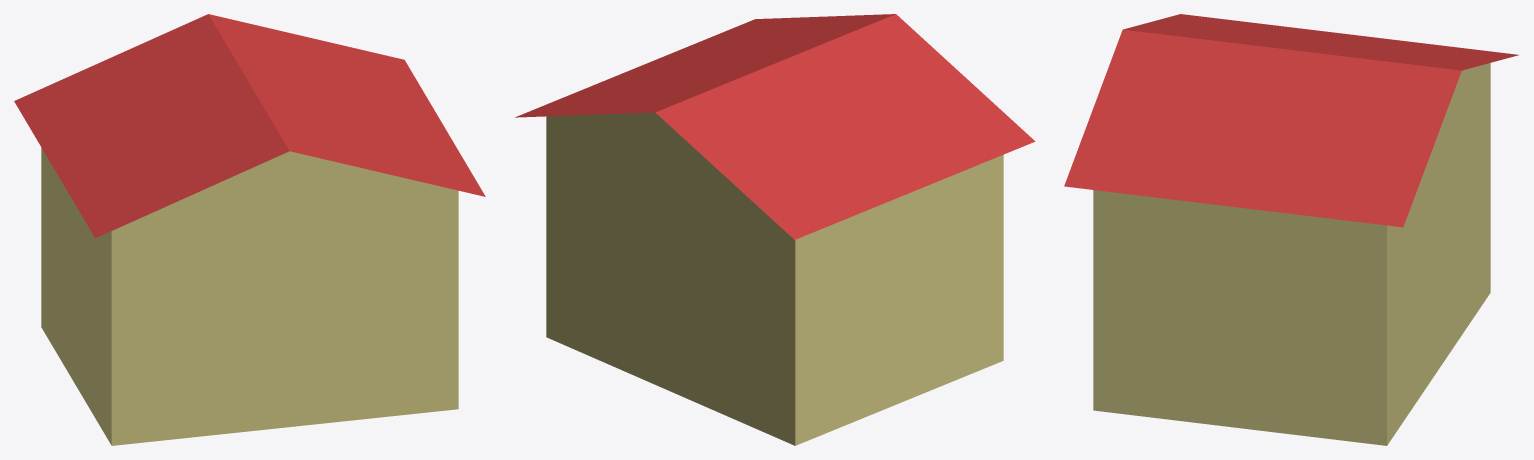
3 renders of one model, left to right at view 1: azimuth 30°, elevation 25°; view 2: azimuth 150°, elevation 25°; view 3: azimuth 270°, elevation 25°, orthographic. The views are drawn at different scales.
Parts seen in each view (by area): view 1: group_5, group_3, group_4; view 2: group_5, group_3, group_4; view 3: group_5, group_3, group_4.
Part boxes in pixels (x1,y1,x2,y2): group_5: [41, 148, 458, 445]; group_3: [37, 14, 485, 238]; group_4: [14, 14, 425, 235]; group_5: [546, 112, 1003, 445]; group_3: [519, 14, 1035, 239]; group_4: [515, 14, 1033, 239]; group_5: [1093, 63, 1490, 445]; group_3: [1064, 14, 1489, 227]; group_4: [1123, 15, 1518, 227].
Size of the model in its own units: 15.98 by 14.42 by 10.51.
